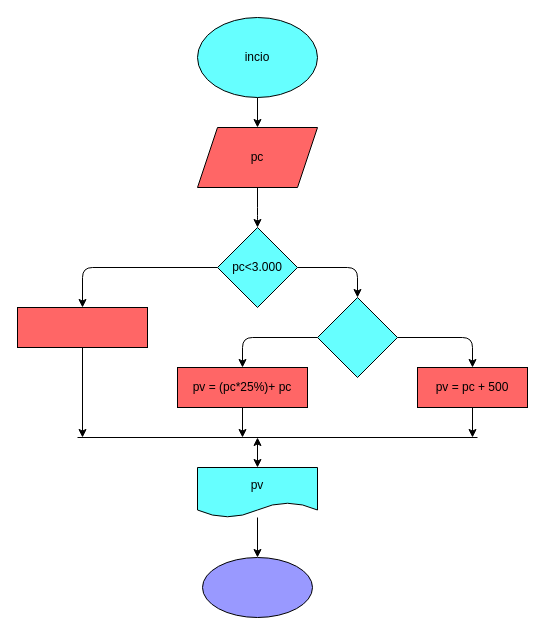
The diagram is 545 pixels wide and 635 high, and some of its shapes have lost their labels. Here are the shapes that lost their labels. From the top down, the centre of each, then its label:
[82,327]: pv=(pc*15%)+pc
[357,337]: pc>6.000
[257,587]: fin
